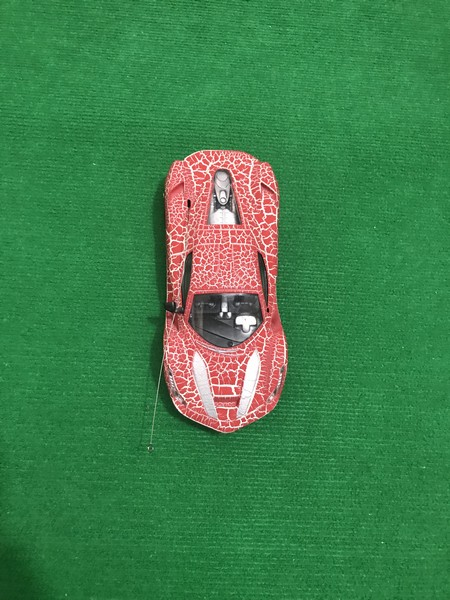RC: (159, 148, 291, 436)
